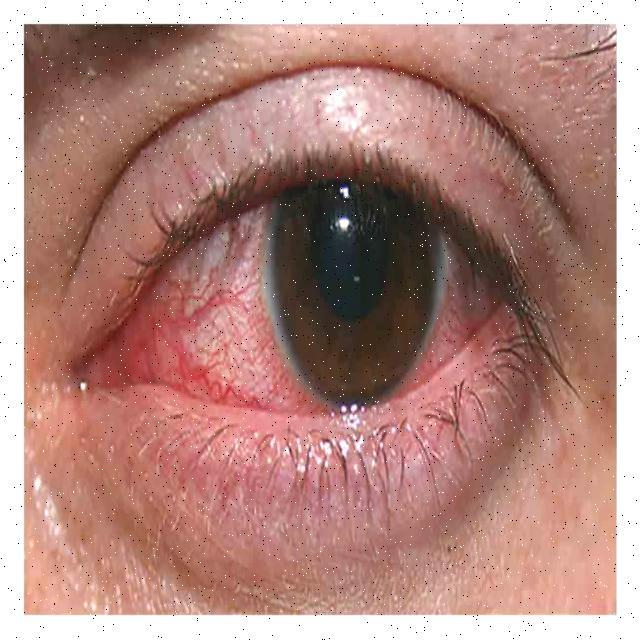Conjunctivitis: (74, 206, 514, 424)
